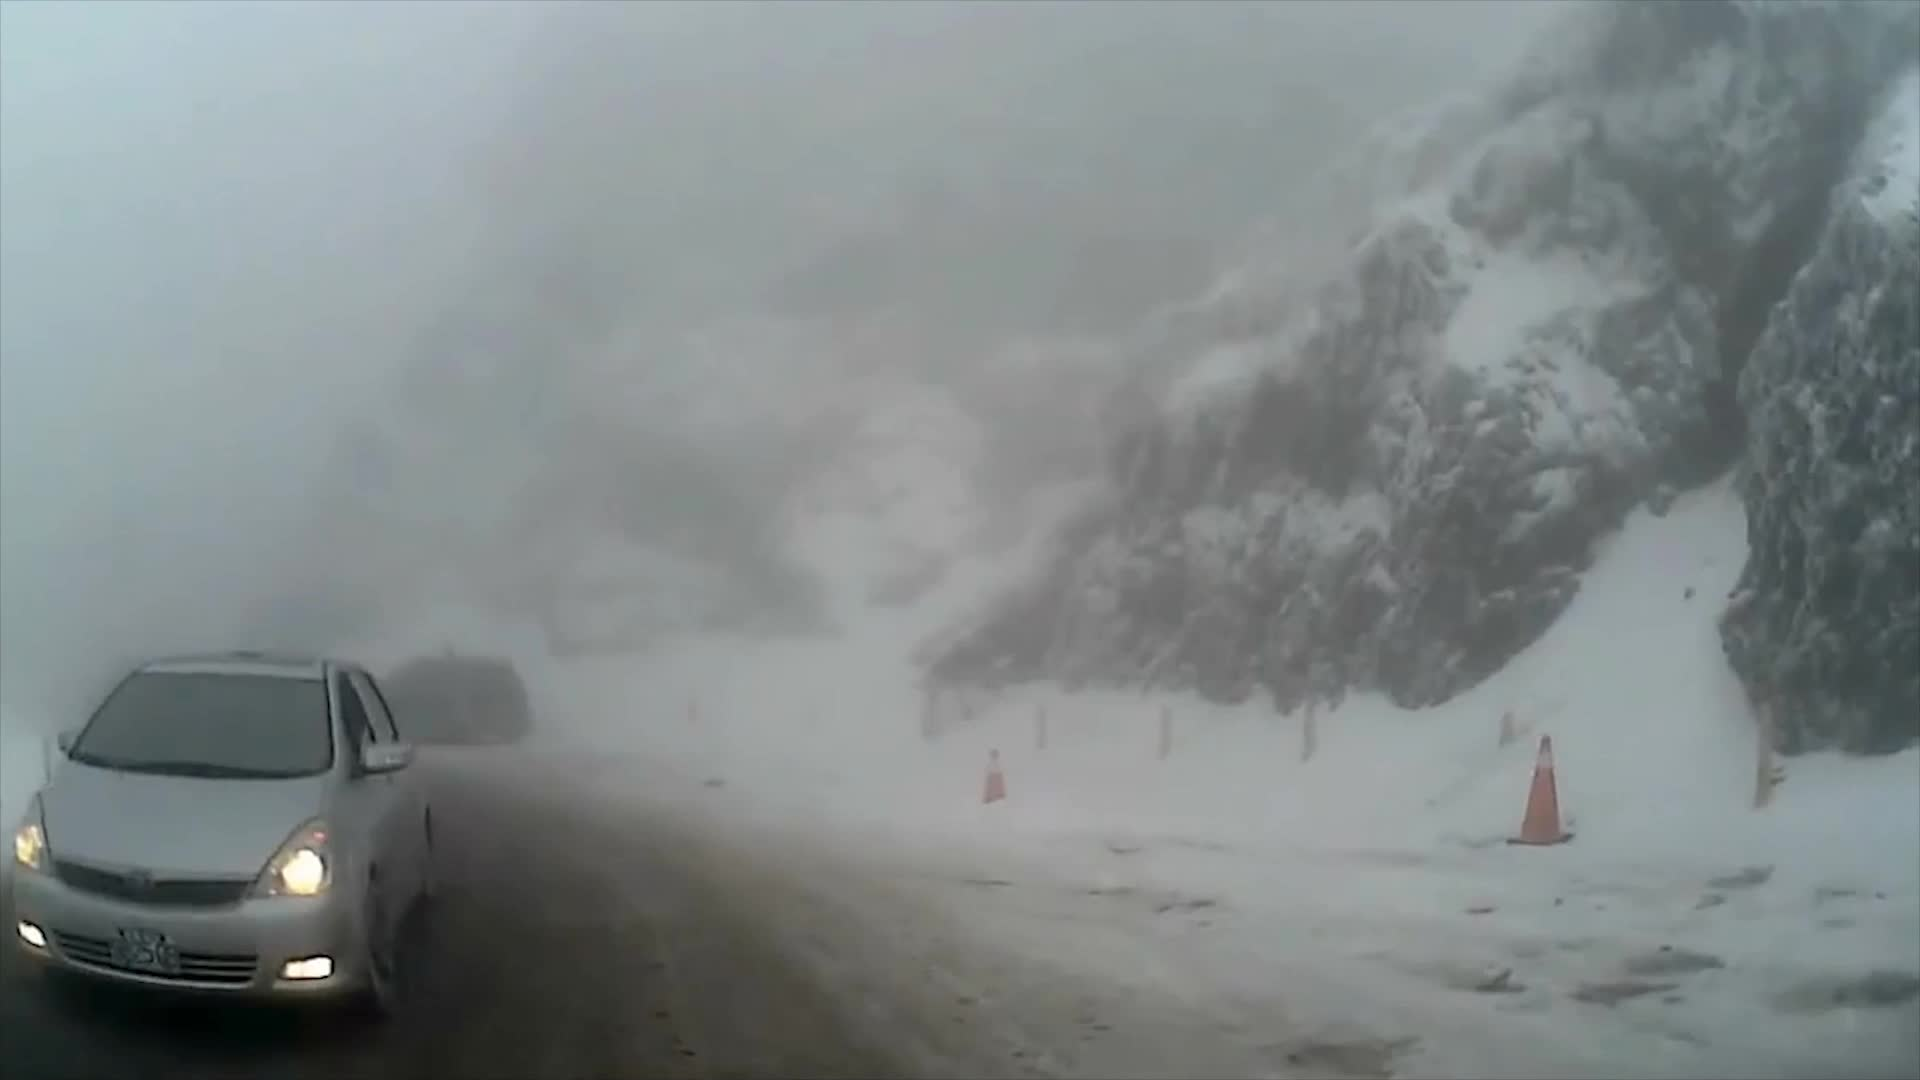vehicle: (7, 647, 440, 1027)
